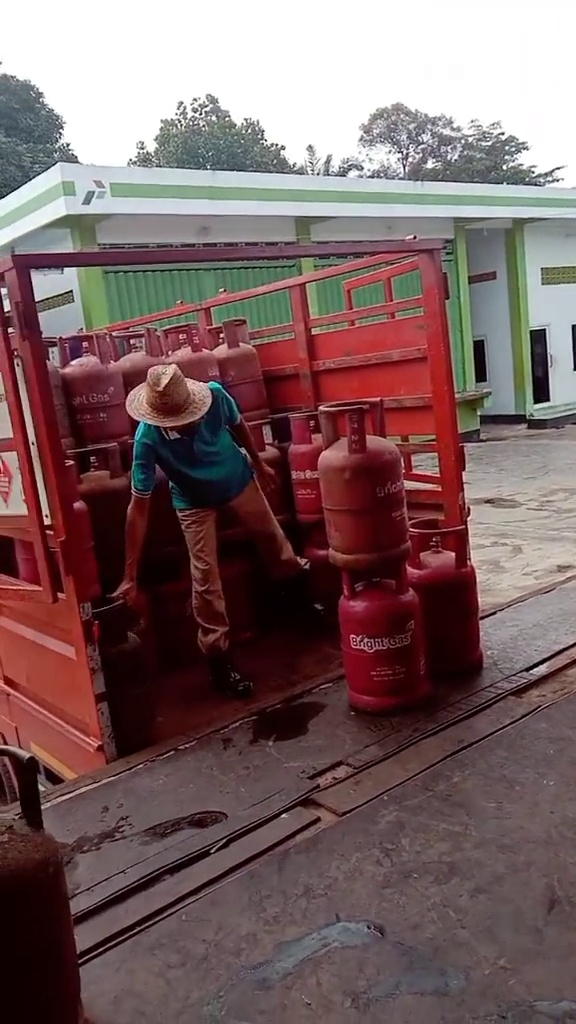bright_gas: (321, 398, 414, 564), (337, 566, 430, 713), (409, 517, 486, 688), (40, 329, 123, 445), (68, 449, 127, 583), (209, 317, 268, 419), (281, 410, 331, 523)
